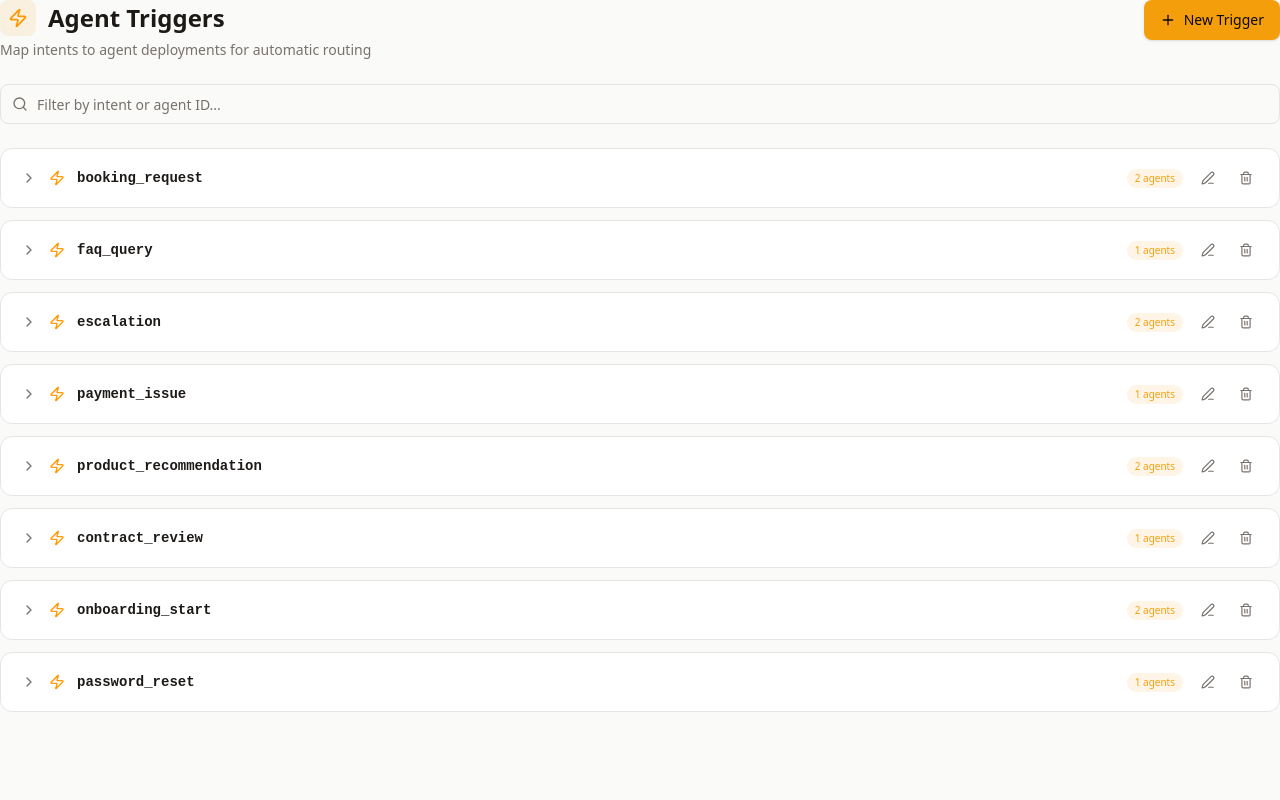
Test: TriggersPage › closes dialog on Escape key
The image size is (1280, 800).
Click the button with test id "create-trigger-btn". click: [1212, 20]
box: [1144,0,1279,40]
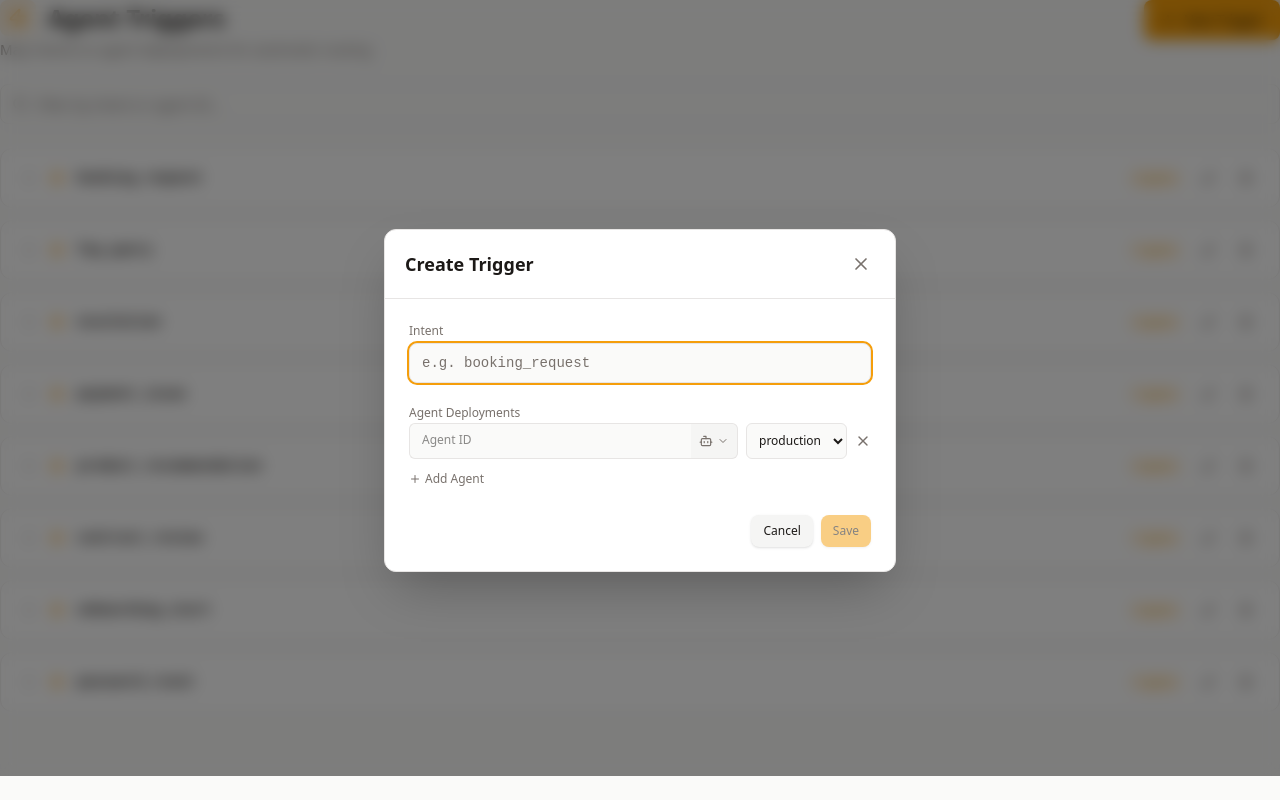
Expected: the dialog with test id "trigger-dialog" is shown, [384,228,896,572]
Press Escape
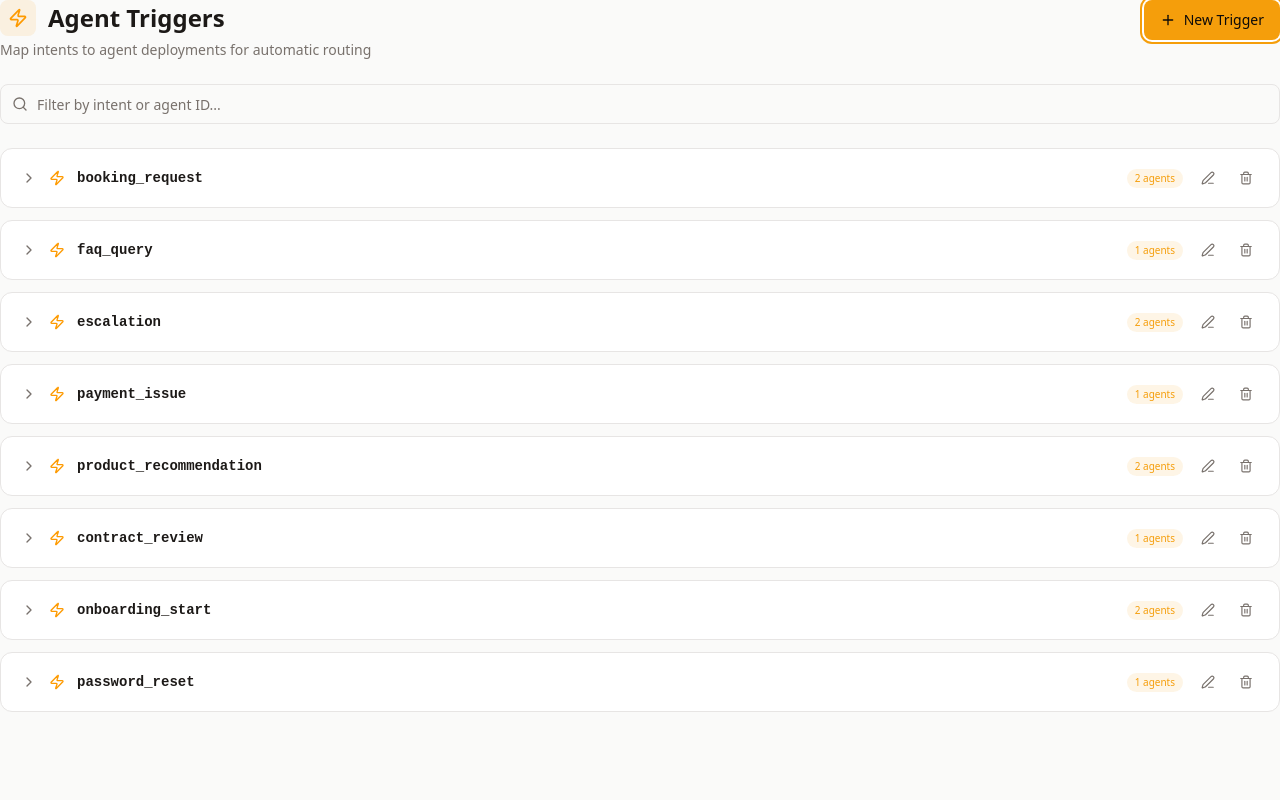
Expected: the dialog with test id "trigger-dialog" is gone
